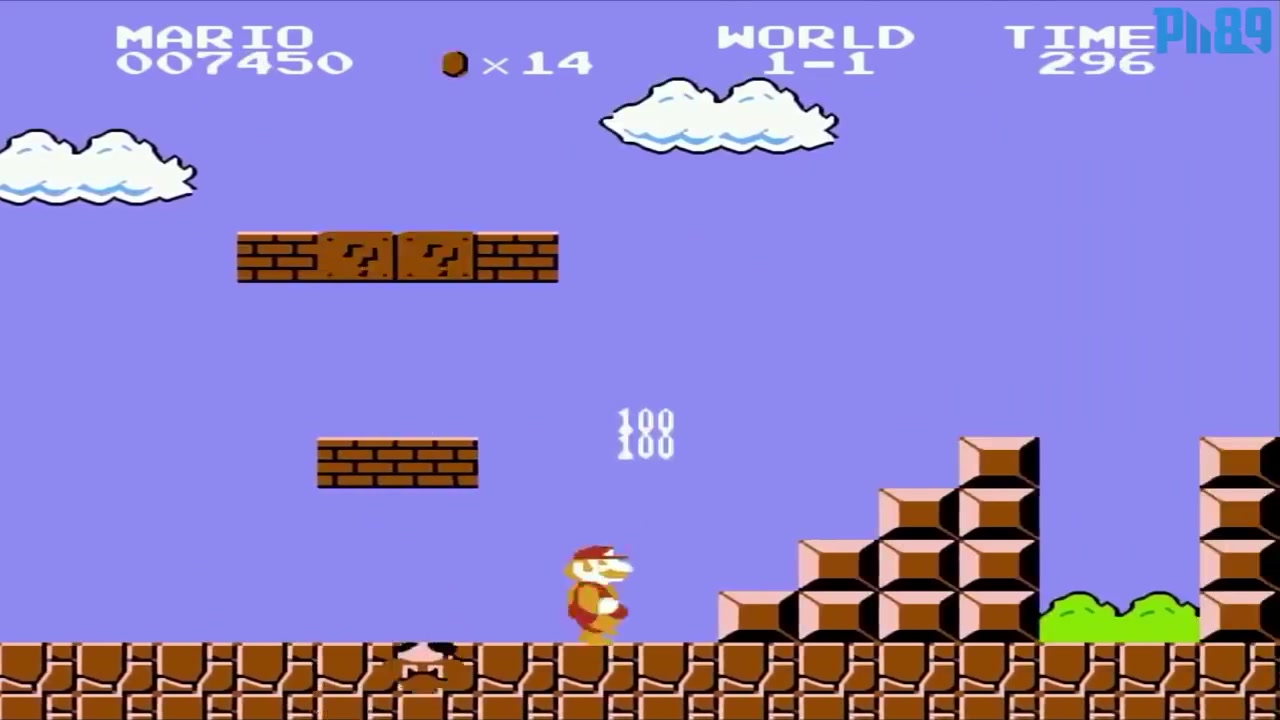mario: (547, 534, 647, 645)
